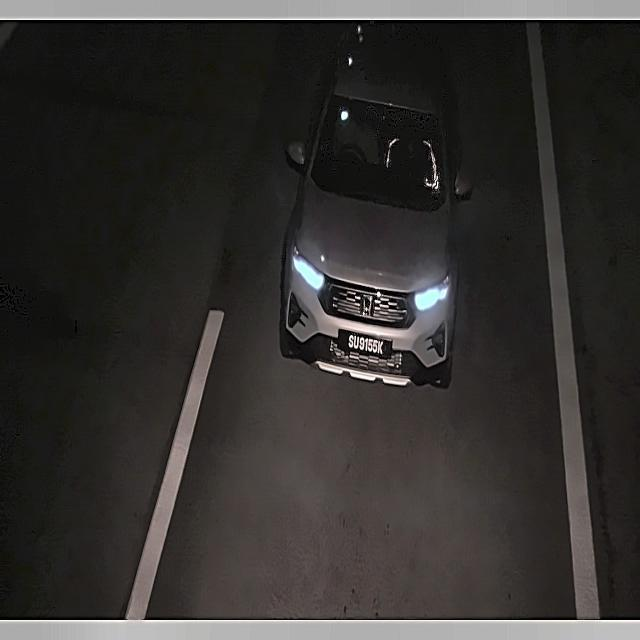car: (334, 326, 398, 367)
